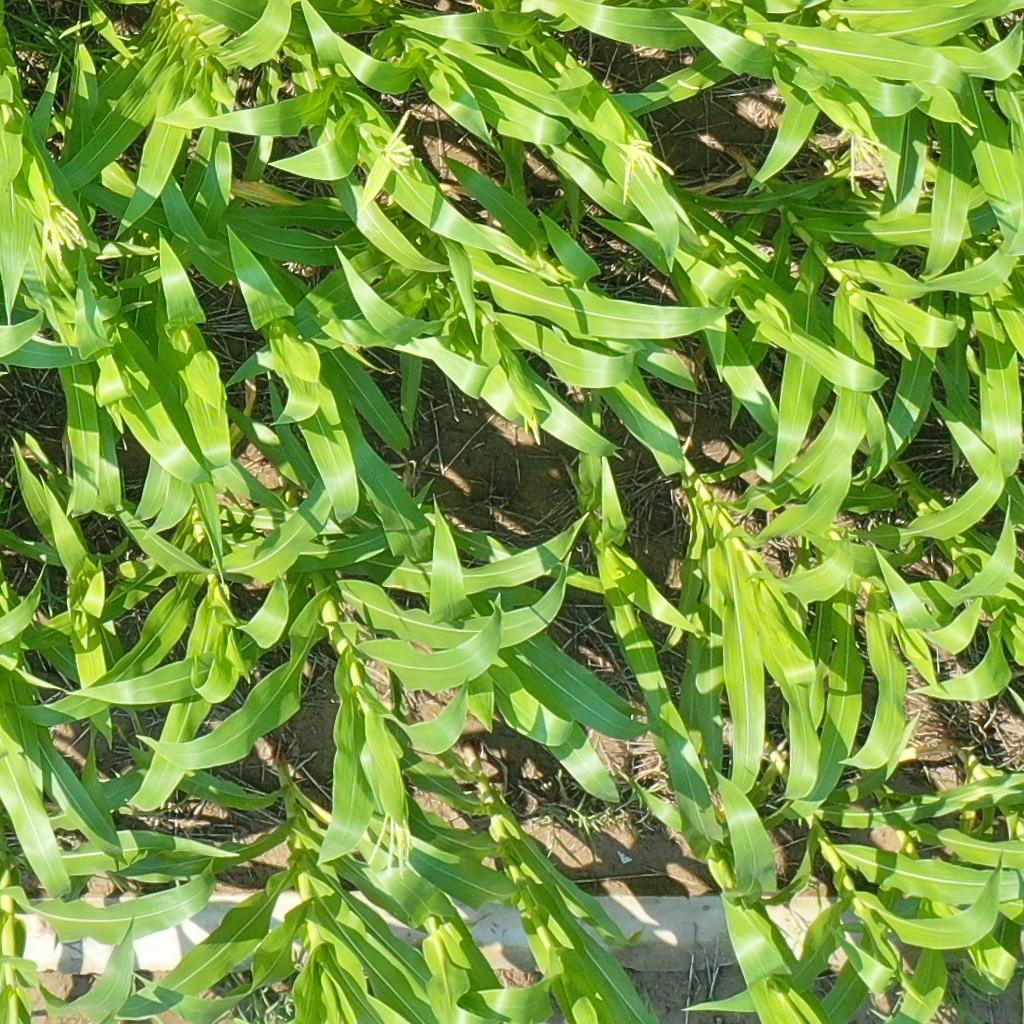Tassel: (611, 131, 680, 204), (31, 192, 89, 269), (836, 124, 893, 194), (365, 105, 421, 173), (364, 809, 418, 878), (516, 408, 546, 447)
